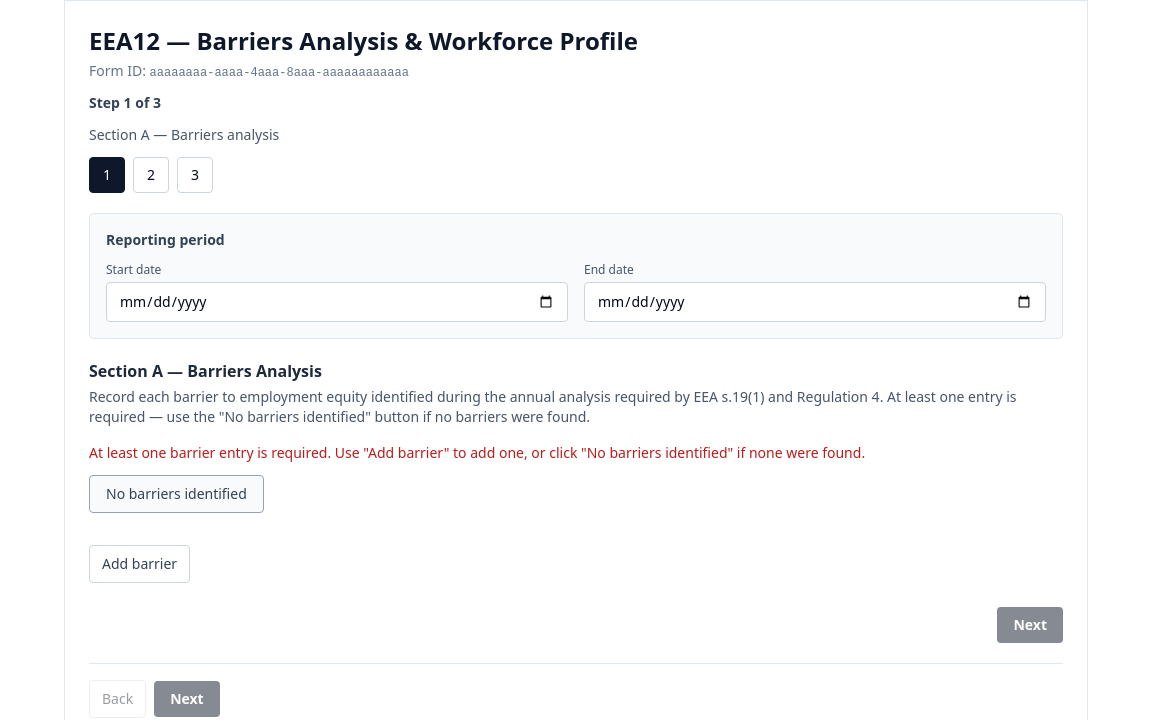
Scenario: EEA12Form — Section A barriers › does NOT show the nil-return button when entries already exist
Note: Add a barrier to make the list non-empty
Click the button with test id "eea12-add-barrier-btn". click: (140, 564)
box: [89,545,190,583]
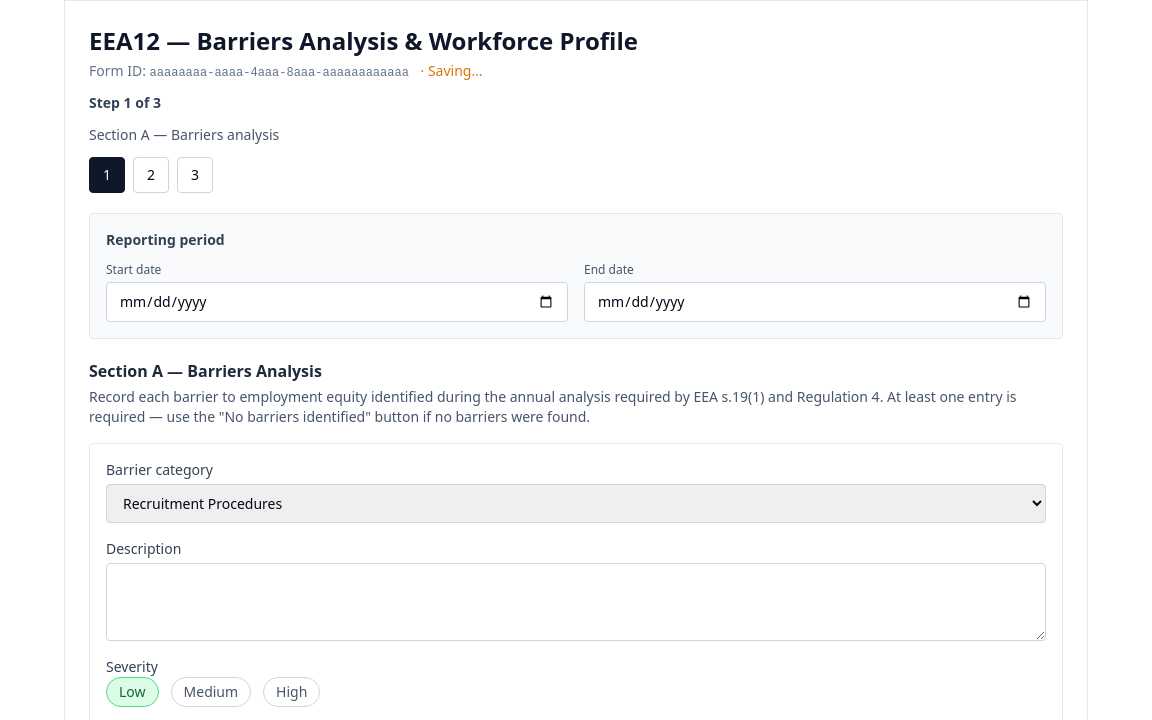
Check: the button with test id "eea12-nil-return-btn" is gone
